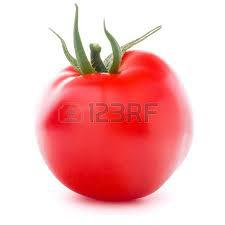tomato: (35, 47, 195, 204)
